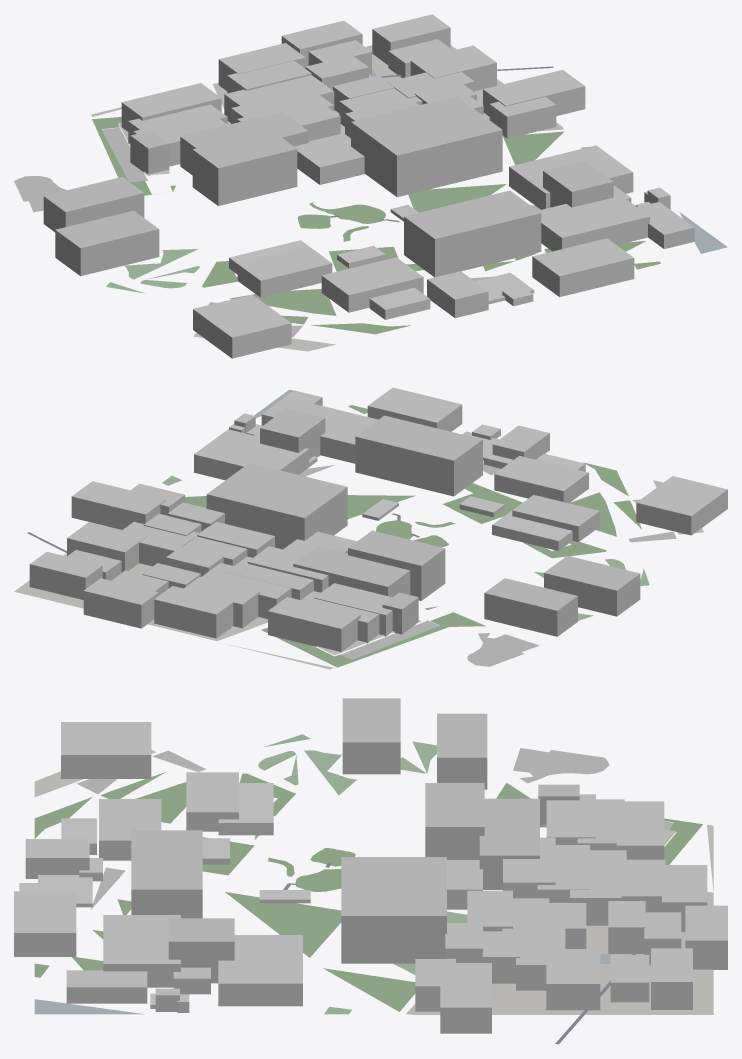
File: 134_104_mid.glb
The picture shows the model from 3 angles, top to bottom: view 1: azimuth 30°, elevation 25°; view 2: azimuth 150°, elevation 25°; view 3: azimuth 270°, elevation 25°; orthographic projection. The views are drawn at different scales.
Bounding box in the file's own units: 552 × 41.13 × 526.
